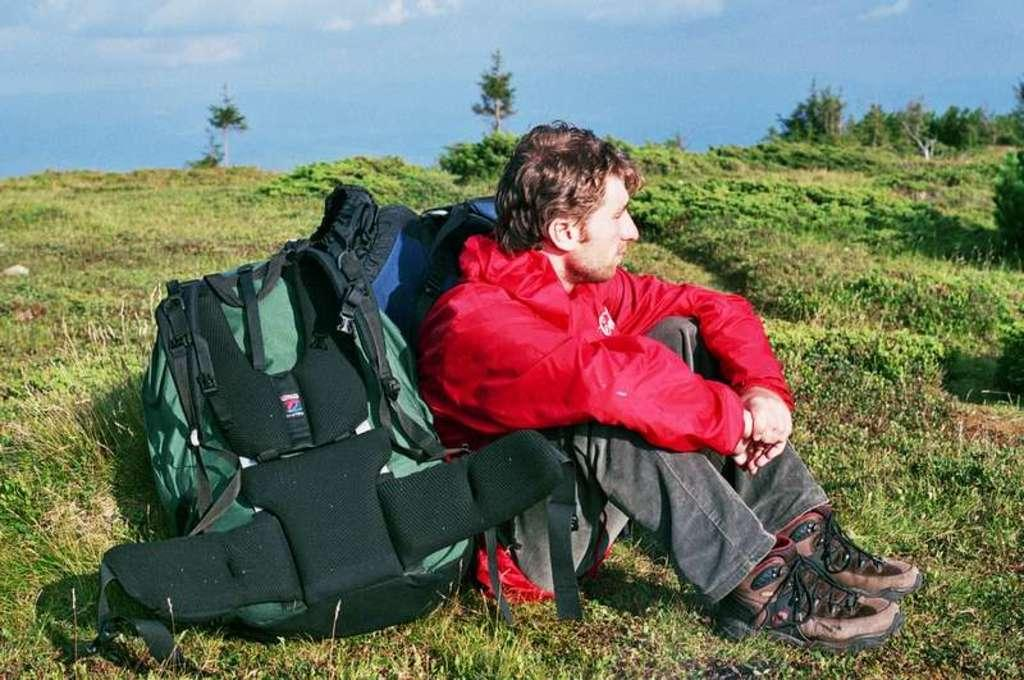Luggage-and-bags: (140, 232, 495, 610), (315, 184, 498, 337)
